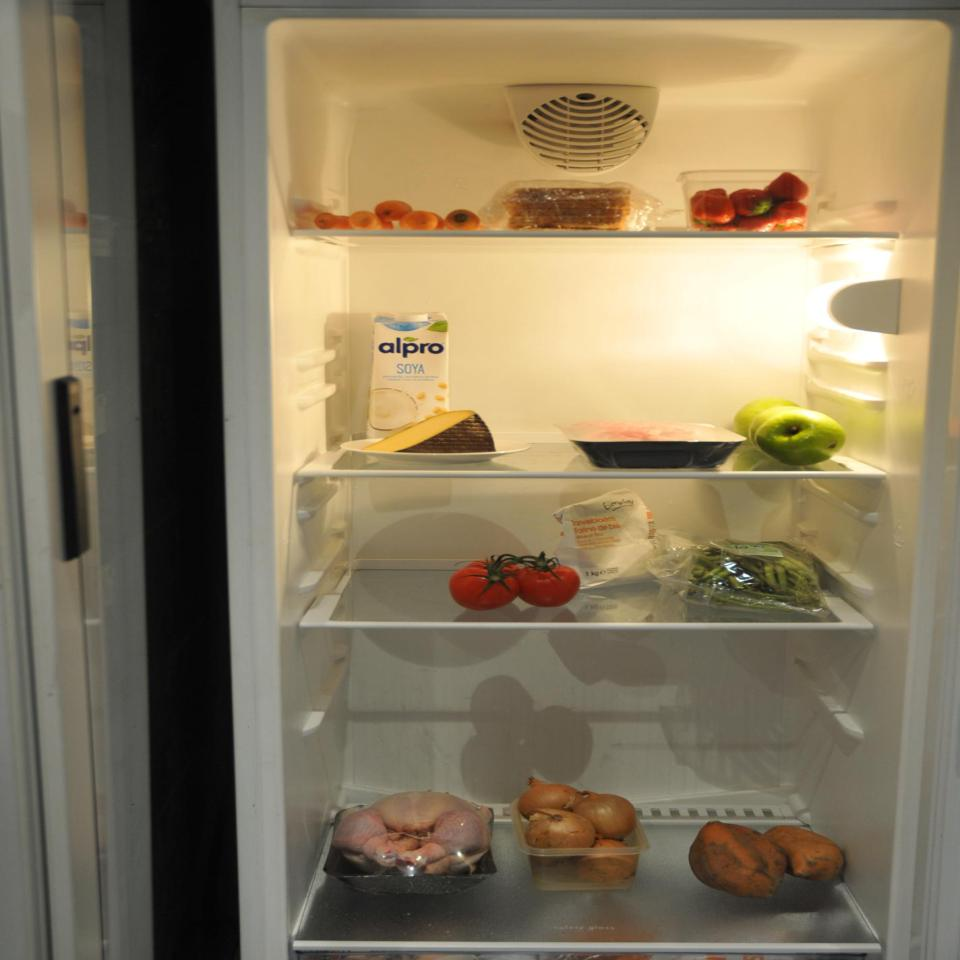Carne pollo: (328, 788, 496, 888)
Leche: (362, 312, 452, 445)
Manzana: (731, 396, 855, 472)
Queso: (362, 407, 504, 457)
Tomate: (452, 556, 587, 614)
Zanahoria: (302, 197, 497, 240)
